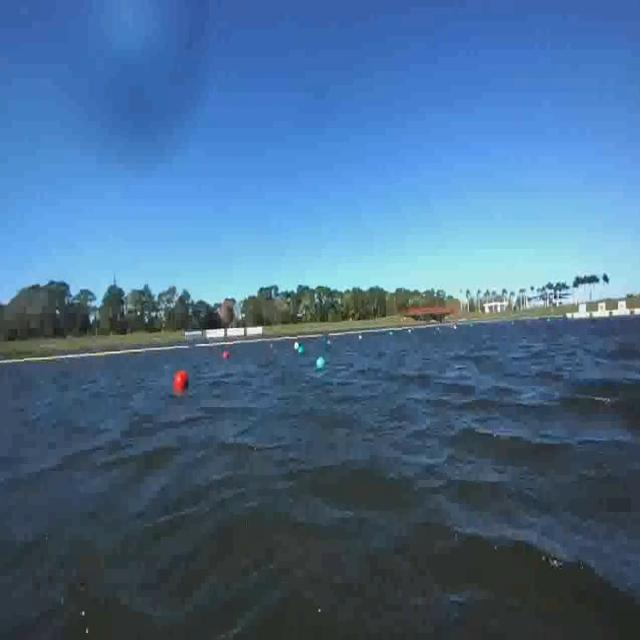green-buoy: (315, 354, 326, 374), (296, 343, 308, 358)
red-buoy: (177, 370, 193, 390), (223, 351, 229, 360)
